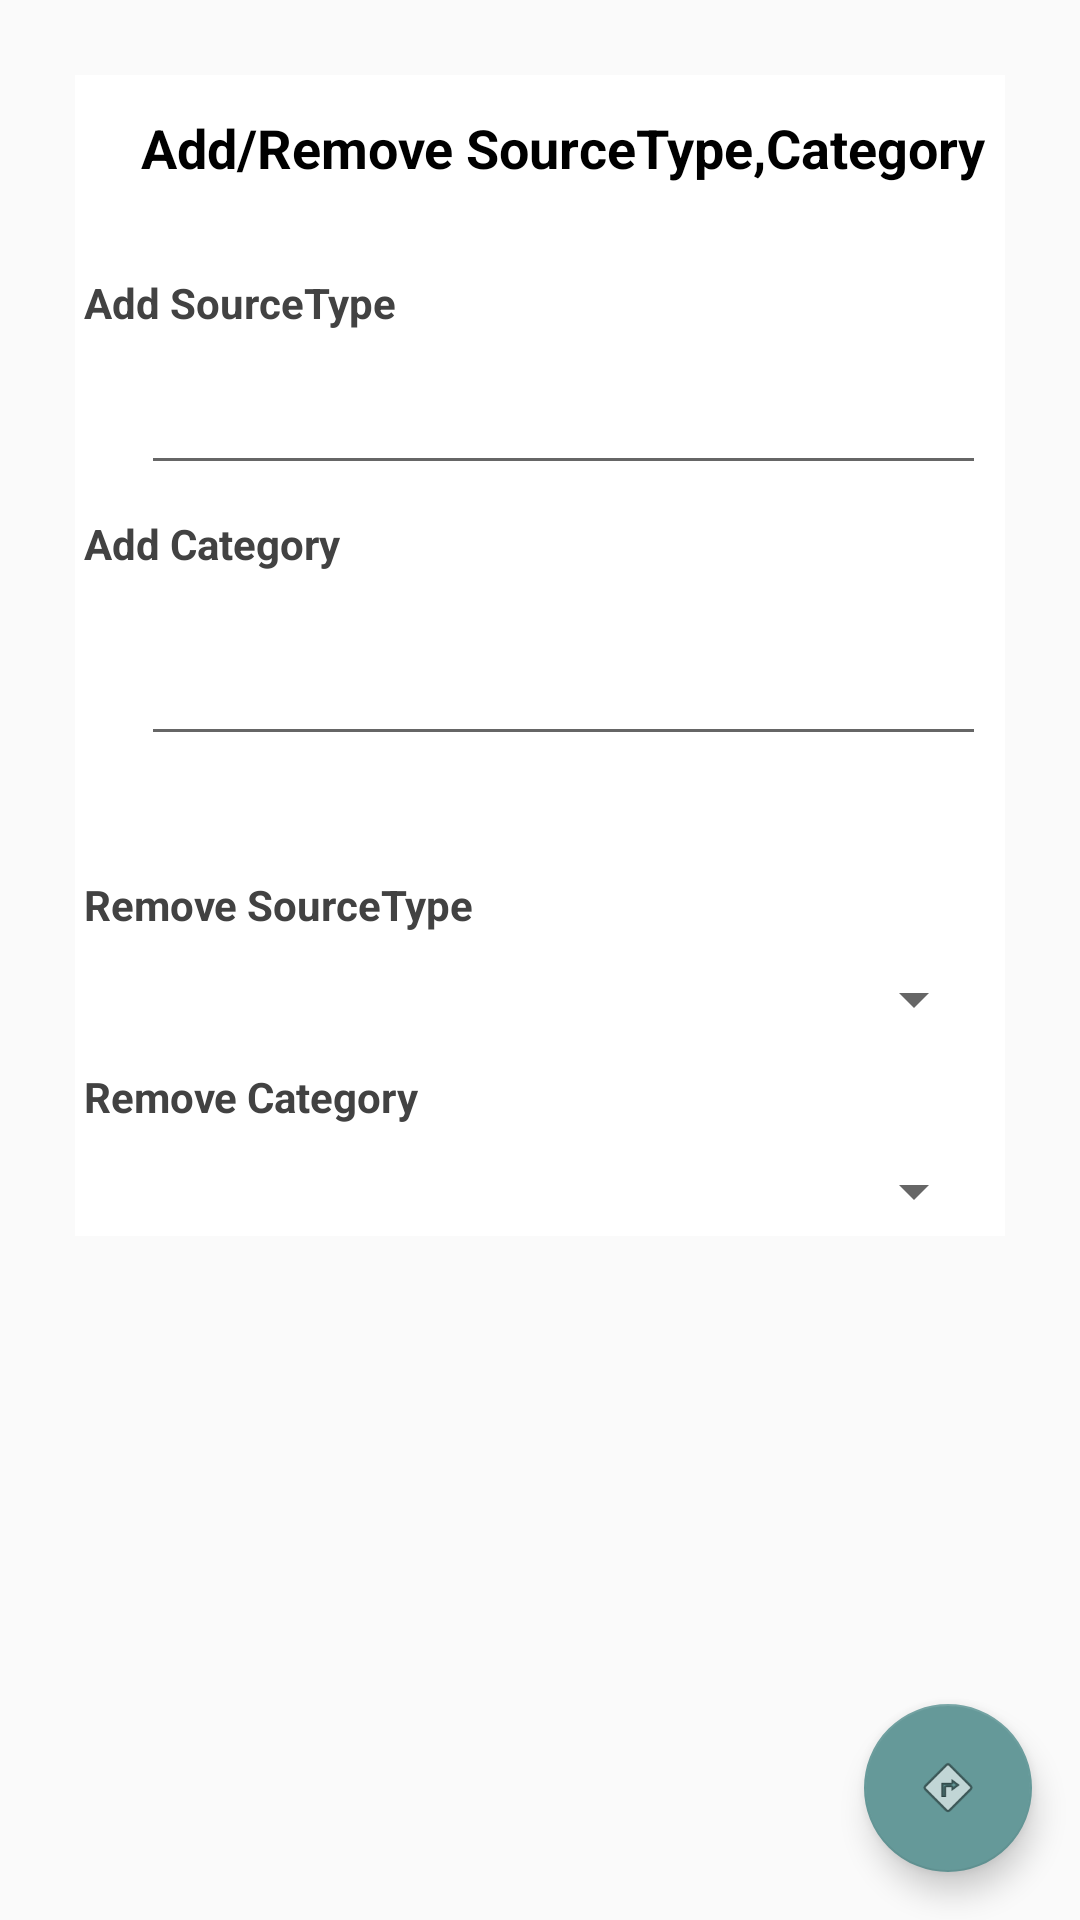

Icon click points for this 1080 × 1920 phone screenshot, format point (x, y):
directions: point (948, 1788)
